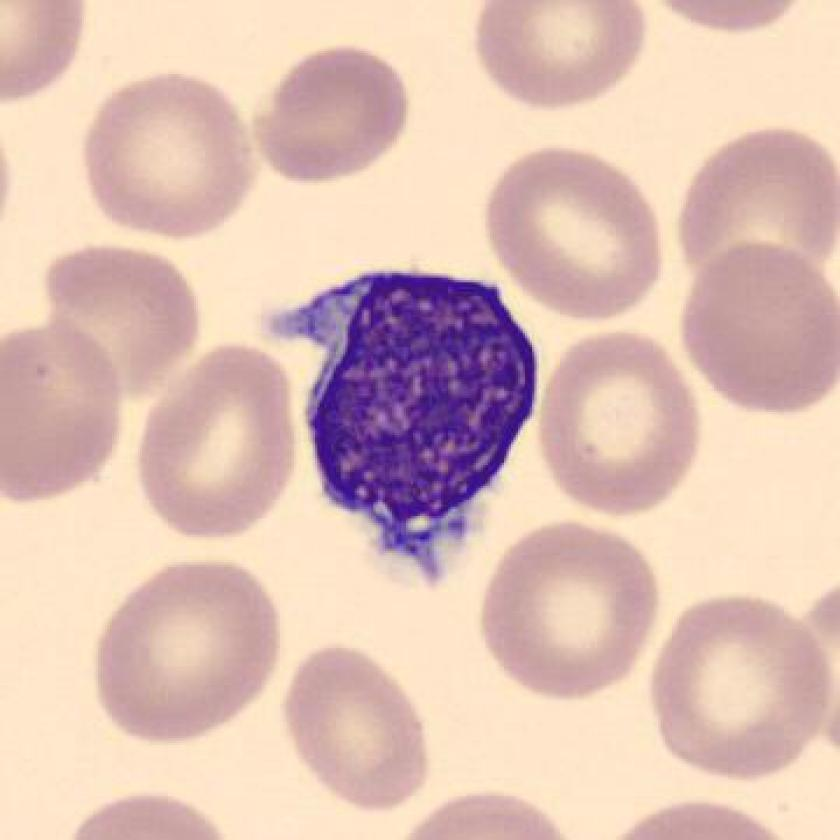lymphocyte: (258, 246, 566, 584)
